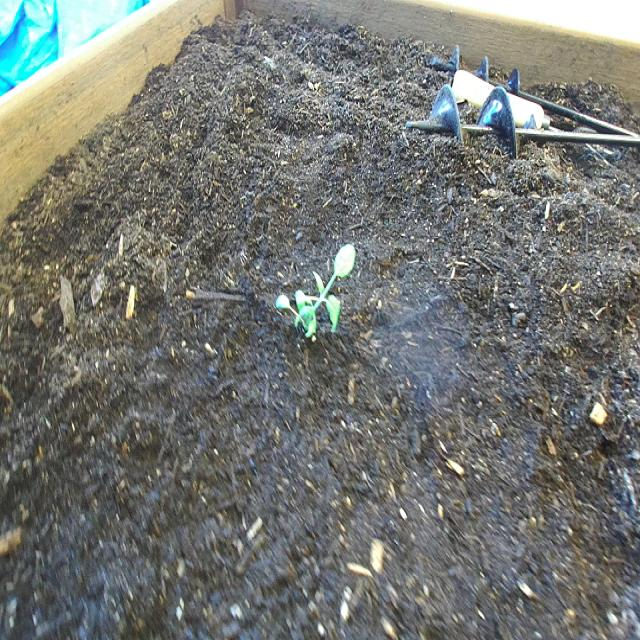Healthy: (274, 236, 359, 351)
